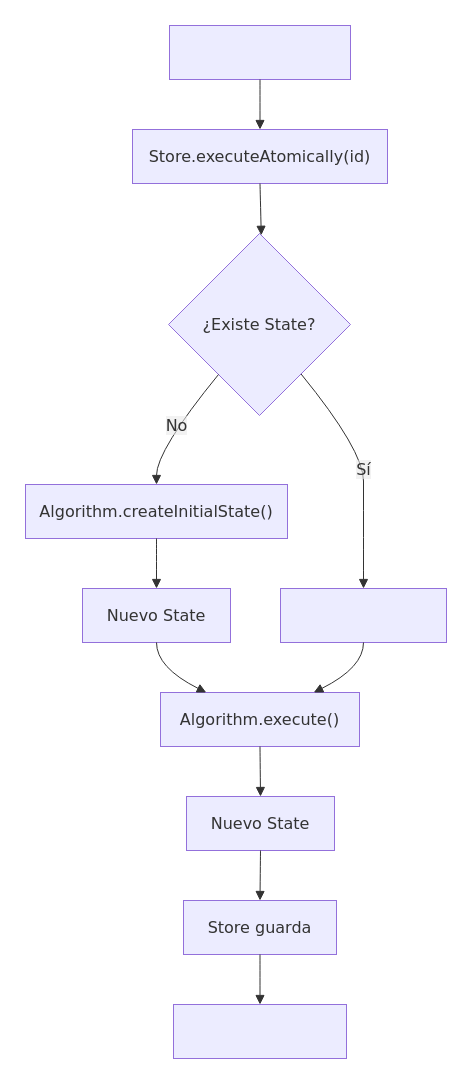
The diagram is 464 pixels wide and 1076 high, and some of its shapes have lost their labels. Each missing label, with the centre of its shape:
RateLimit.use(id): the point at 259,52
RateLimitResult: the point at 259,1031
State existente: the point at 363,615
